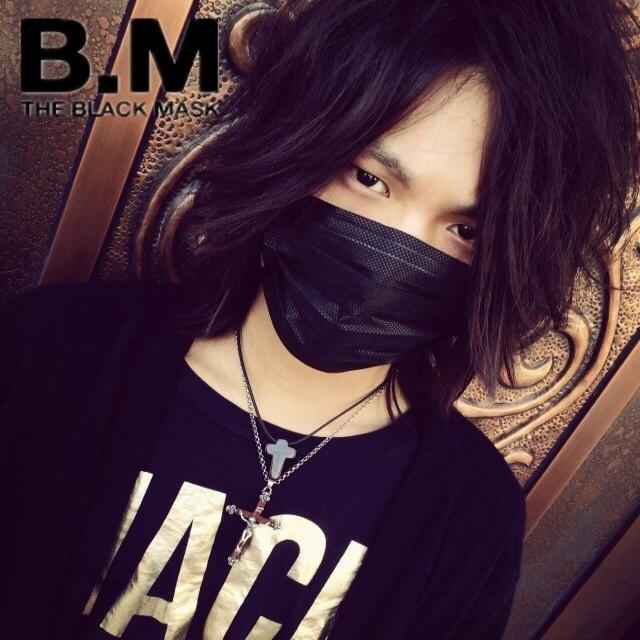mask: (288, 66, 516, 372)
